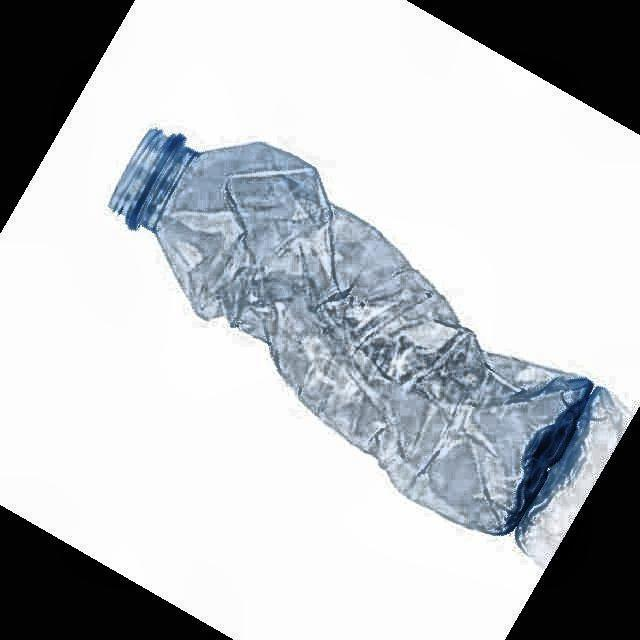plastic: (111, 131, 604, 534)
